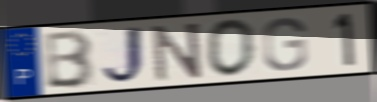1: (332, 11, 357, 68)
B: (44, 28, 97, 90)
G: (261, 15, 310, 72)
J: (99, 24, 150, 86)
N: (150, 20, 205, 84)
O: (203, 17, 257, 79)
